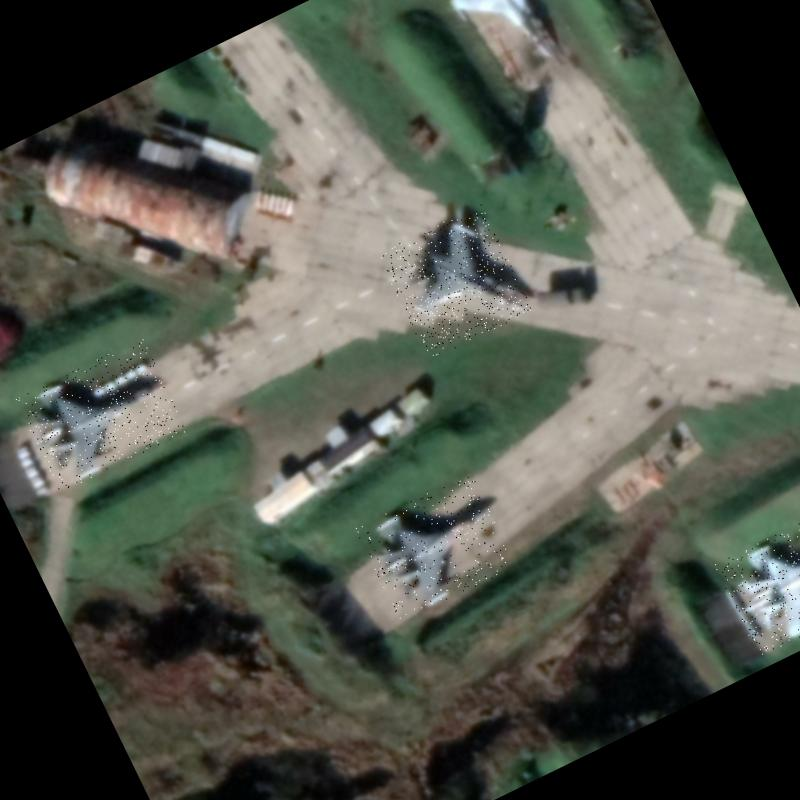A1: (15, 336, 188, 492), (376, 202, 532, 360), (355, 472, 517, 622), (428, 0, 585, 92), (713, 493, 800, 657)
